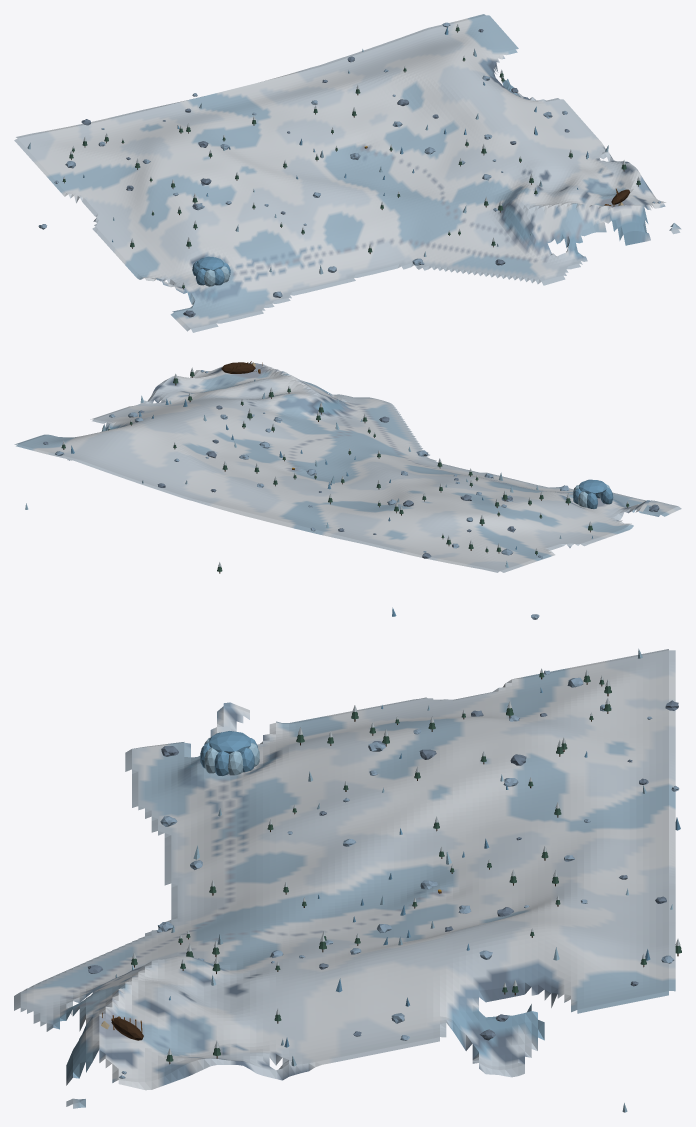
The model's file is frost_isl_frozen_wreck.glb.
3 views of the same model, one above another, from view 1: azimuth 30°, elevation 25°; view 2: azimuth 150°, elevation 25°; view 3: azimuth 270°, elevation 25° (orthographic). The views are drawn at different scales.
Parts seen in each view (by area): view 1: geometry_0; view 2: geometry_0; view 3: geometry_0.
Boxes of the visible parts, x1,y1,x2,y2 form: geometry_0: (14,14,681,332); geometry_0: (14,361,681,619); geometry_0: (14,648,681,1112).
Bounding box in the file's own units: 264 × 45.32 × 204.
